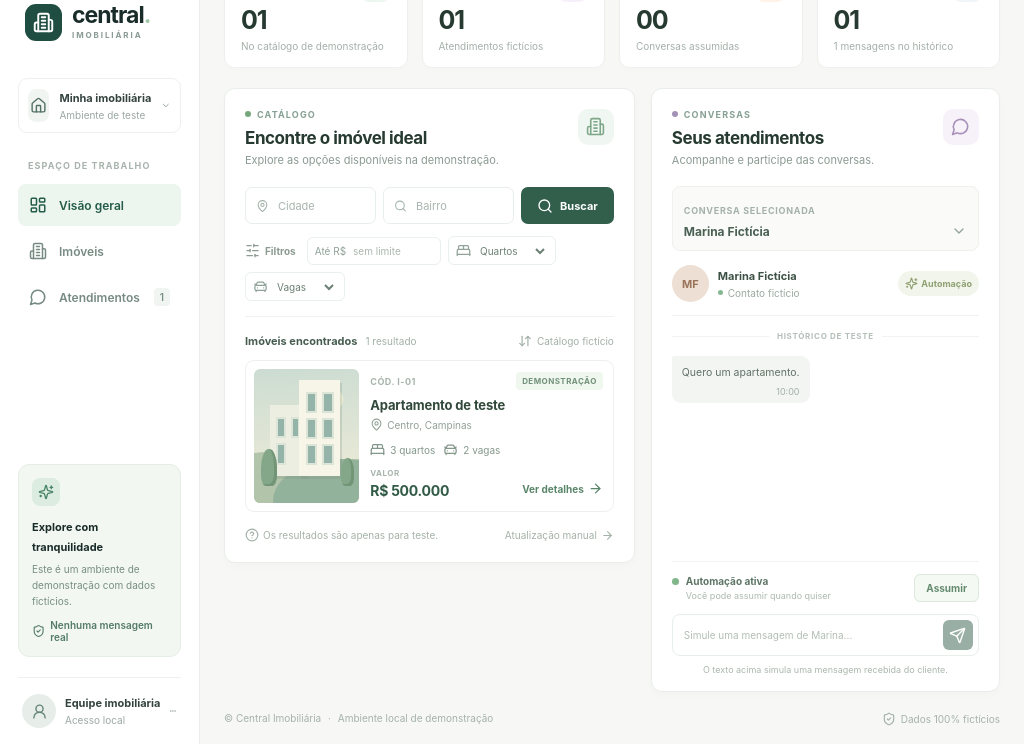
Test: Painel de demonstração › envia mensagem fictícia identificada à conversa selecionada
(page scrolled)
In the field named "Mensagem fictícia do cliente": (808,635) [678,624,939,646], type "Olá"
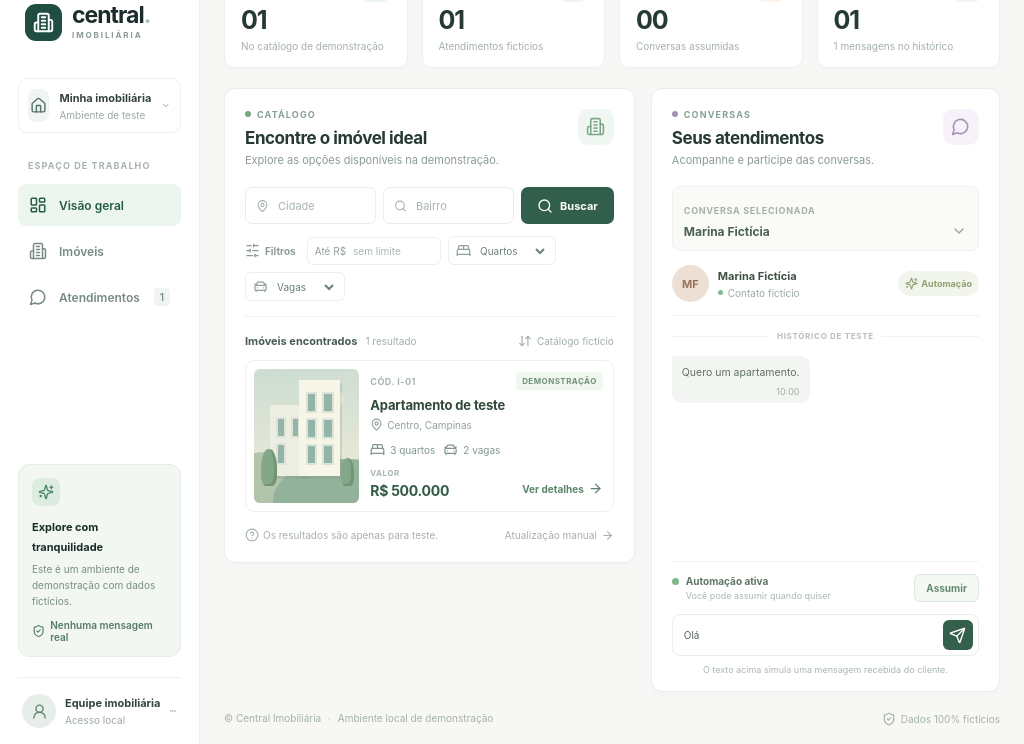
Click the button named "Enviar mensagem fictícia": (958,635) [943,620,973,650]
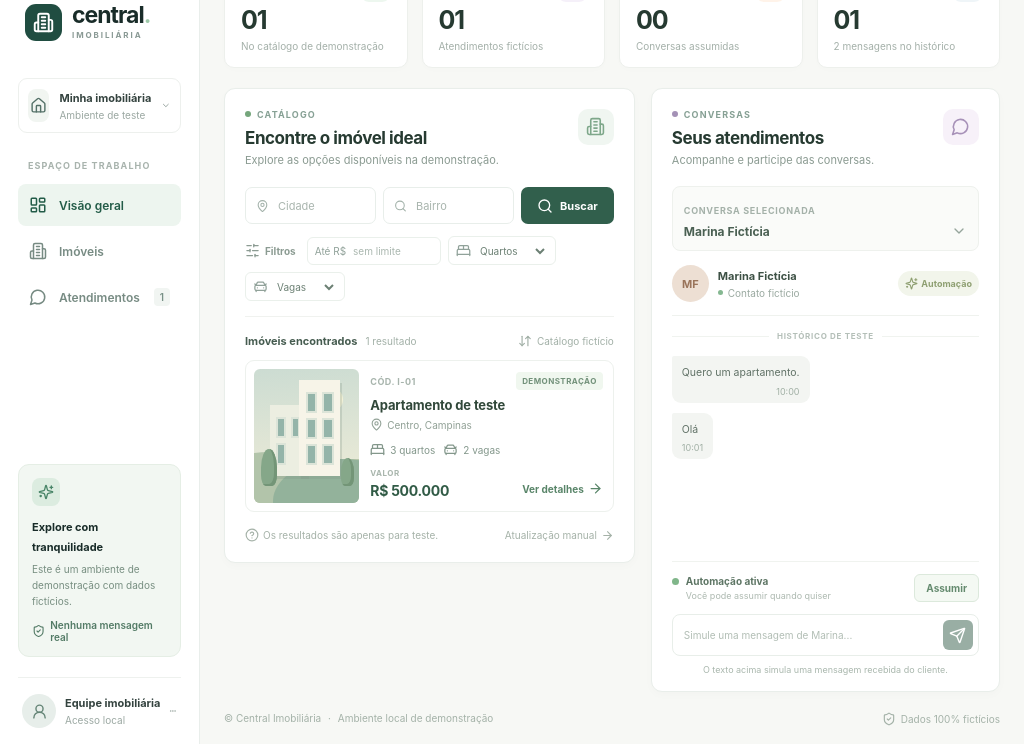
Expected: the text "Olá" is shown, [682,422,698,436]
Expected: the field named "Mensagem fictícia do cliente" is empty, [678,624,939,646]
